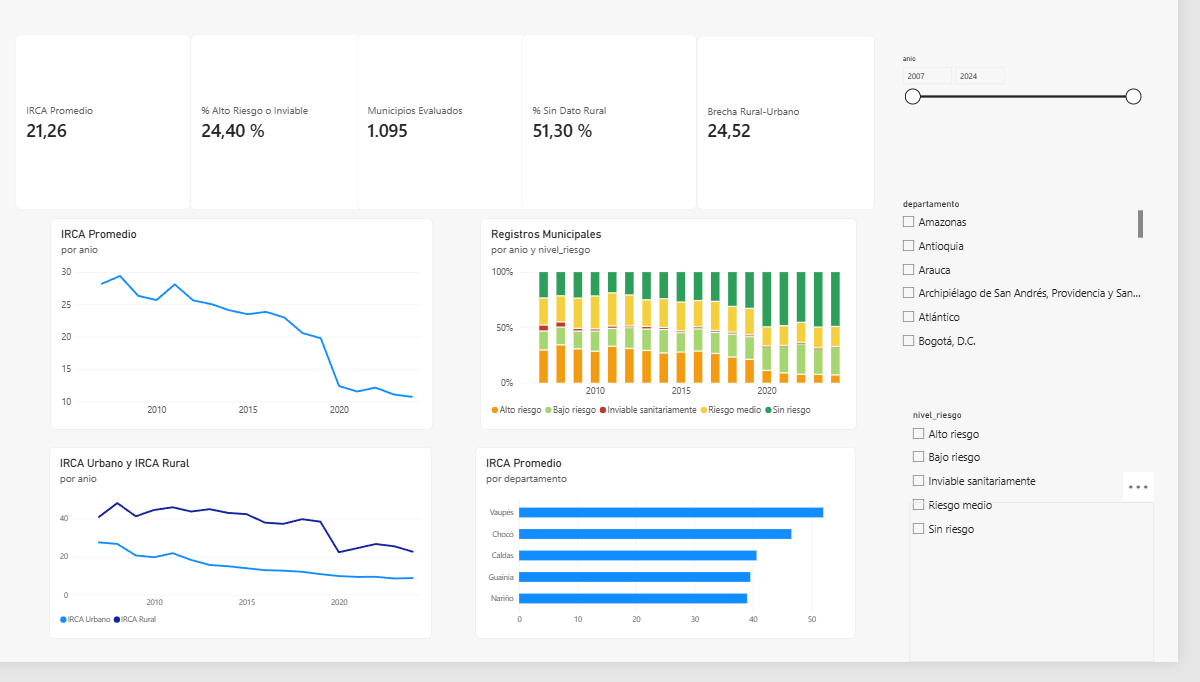

Layout of this report page (visuals, bound fields, positions):
{"tool":"powerbi","page":{"name":"Panorama nacional","canvas":[1920,1080],"ordinal":0},"visuals":[{"type":"cardVisual","fields":{"Data":["irca.IRCA Promedio"]},"box":[60,76.7,280,280],"z":0},{"type":"cardVisual","fields":{"Data":["irca.% Alto Riesgo o Inviable"]},"box":[340,76.7,278.7,280.5],"z":1000},{"type":"cardVisual","fields":{"Data":["irca.Municipios Evaluados Texto"]},"box":[606.7,76.7,280,280],"z":2000},{"type":"cardVisual","fields":{"Data":["irca.% Sin Dato Rural"]},"box":[870,76.7,280,280],"z":3000},{"type":"lineChart","fields":{"Category":["irca.anio"],"Y":["irca.IRCA Promedio"]},"box":[115,370,611.7,338.3],"z":4000},{"type":"hundredPercentStackedColumnChart","fields":{"Category":["irca.anio"],"Series":["irca.nivel_riesgo"],"Y":["irca.Registros Municipales"]},"box":[803.3,370,601.7,338.3],"z":5000},{"type":"slicer","fields":{"Values":["irca.anio"]},"box":[1472,108,392.7,132.1],"z":6000},{"type":"slicer","fields":{"Values":["irca.departamento"]},"box":[1472,338,392,254],"z":7000},{"type":"slicer","fields":{"Values":["irca.nivel_riesgo"]},"box":[1488,676,394,238],"z":8000},{"type":"cardVisual","fields":{"Data":["irca.Brecha Rural-Urbano"]},"box":[1150,78.3,285.9,278.7],"z":9000},{"type":"clusteredBarChart","fields":{"Category":["irca.departamento"],"Y":["irca.IRCA Promedio"]},"box":[796.7,736.7,608.3,306.7],"z":10000},{"type":"lineChart","fields":{"Category":["irca.anio"],"Y":["irca.IRCA Urbano","irca.IRCA Rural"]},"box":[113.3,736.7,611.7,306.7],"z":11000},{"type":"textbox","box":[1489,823,393,257],"z":12000},{"type":"textbox","box":[342,823,462,257],"z":13000},{"type":"textbox","box":[832,823,248,257],"z":14000},{"type":"textbox","box":[126.7,675,293.2,148.4],"z":15000}]}

Visuals, with their boxes in screenshot pixels (x1, y1, x2, y2), scaled from the page's 1920x1080 canvas onto the 1200x682 screenshot:
cardVisual - irca.IRCA Promedio: pyautogui.locateOnScreen(38, 48, 212, 225)
cardVisual - irca.% Alto Riesgo o Inviable: pyautogui.locateOnScreen(212, 48, 387, 226)
cardVisual - irca.Municipios Evaluados Texto: pyautogui.locateOnScreen(379, 48, 554, 225)
cardVisual - irca.% Sin Dato Rural: pyautogui.locateOnScreen(544, 48, 719, 225)
lineChart - irca.anio x irca.IRCA Promedio: pyautogui.locateOnScreen(72, 234, 454, 447)
hundredPercentStackedColumnChart - irca.anio x irca.nivel_riesgo: pyautogui.locateOnScreen(502, 234, 878, 447)
slicer - irca.anio: pyautogui.locateOnScreen(920, 68, 1165, 152)
slicer - irca.departamento: pyautogui.locateOnScreen(920, 213, 1165, 374)
slicer - irca.nivel_riesgo: pyautogui.locateOnScreen(930, 427, 1176, 577)
cardVisual - irca.Brecha Rural-Urbano: pyautogui.locateOnScreen(719, 49, 897, 225)
clusteredBarChart - irca.departamento x irca.IRCA Promedio: pyautogui.locateOnScreen(498, 465, 878, 659)
lineChart - irca.anio x irca.IRCA Urbano: pyautogui.locateOnScreen(71, 465, 453, 659)
textbox: pyautogui.locateOnScreen(931, 520, 1176, 681)
textbox: pyautogui.locateOnScreen(214, 520, 502, 681)
textbox: pyautogui.locateOnScreen(520, 520, 675, 681)
textbox: pyautogui.locateOnScreen(79, 426, 262, 520)
